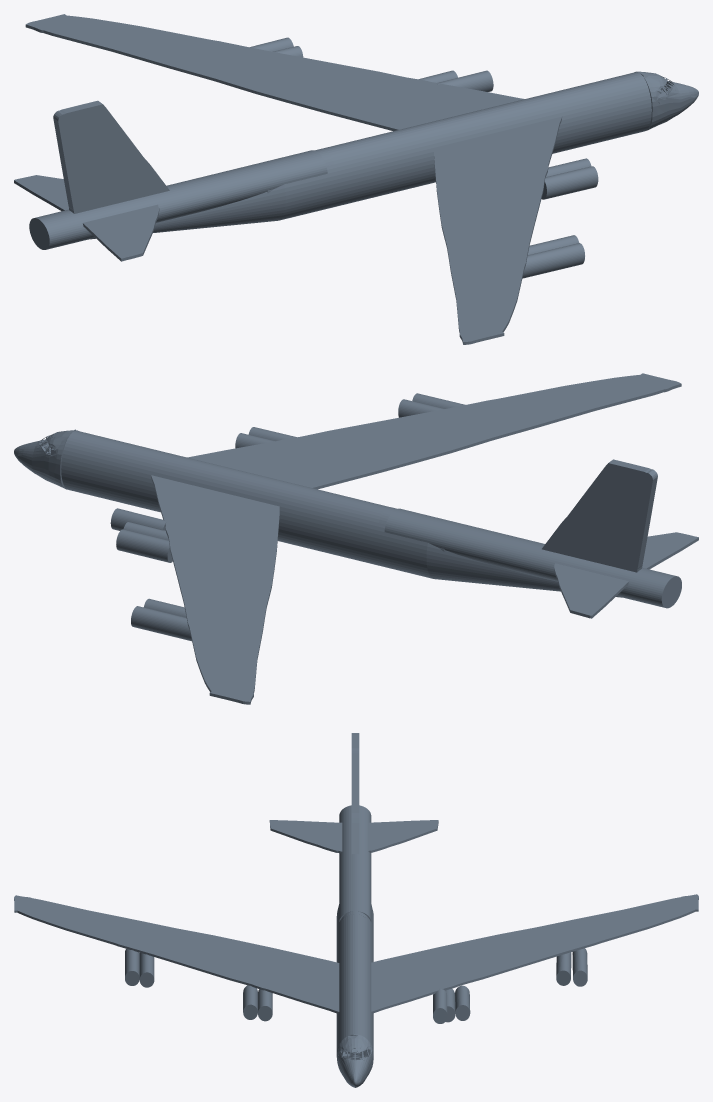
The model's file is Amazing Allis.glb.
3 views of the same model, one above another, from view 1: azimuth 30°, elevation 25°; view 2: azimuth 150°, elevation 25°; view 3: azimuth 270°, elevation 25° (orthographic). The views are drawn at different scales.
Visible parts, largest first — view 1: Mesh_Mesh_head_geo.001_lambert2SG.001; view 2: Mesh_Mesh_head_geo.001_lambert2SG.001; view 3: Mesh_Mesh_head_geo.001_lambert2SG.001.
Part boxes in pixels (bbox=[...]): Mesh_Mesh_head_geo.001_lambert2SG.001: bbox=[14, 14, 698, 344]; Mesh_Mesh_head_geo.001_lambert2SG.001: bbox=[14, 373, 698, 704]; Mesh_Mesh_head_geo.001_lambert2SG.001: bbox=[14, 733, 698, 1087].
Bounding box in the file's own units: 0.242 × 0.0559 × 0.278.
